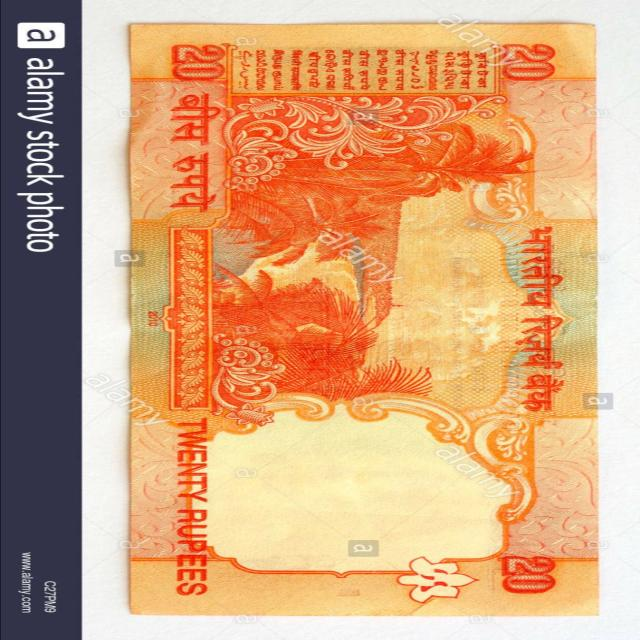20IndianRupees: (140, 24, 600, 612)
